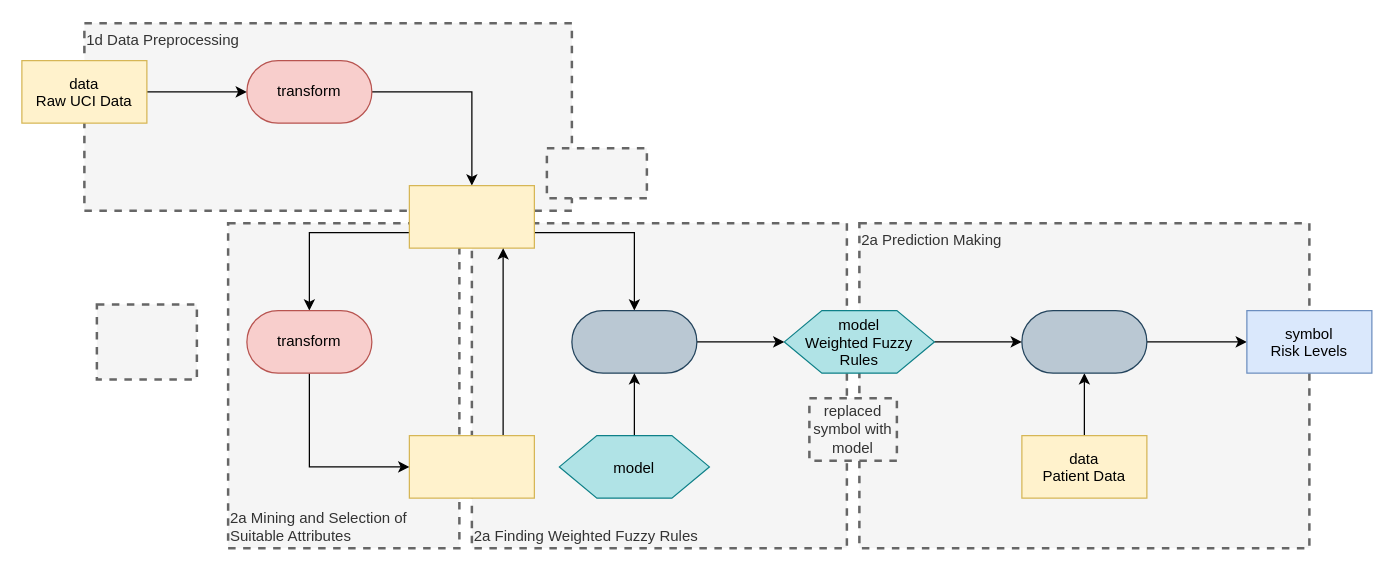
The diagram is 1394 pixels wide and 570 high, and some of its shapes have lost their labels. The centre of each missing label's shape, as x and y in pixels:
data Cleaned and Normalized Data: point (471, 216)
data Selected Attributes: point (471, 466)
infer:deduce: point (634, 341)
infer:predict: point (1084, 341)
merged two data inputs: point (596, 172)
replaced infer:deduce with transform: point (146, 341)
